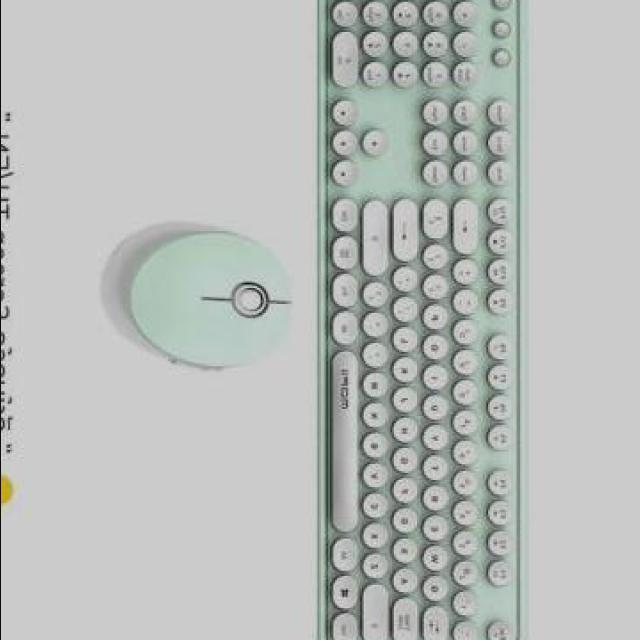keyboard: (315, 0, 532, 640)
